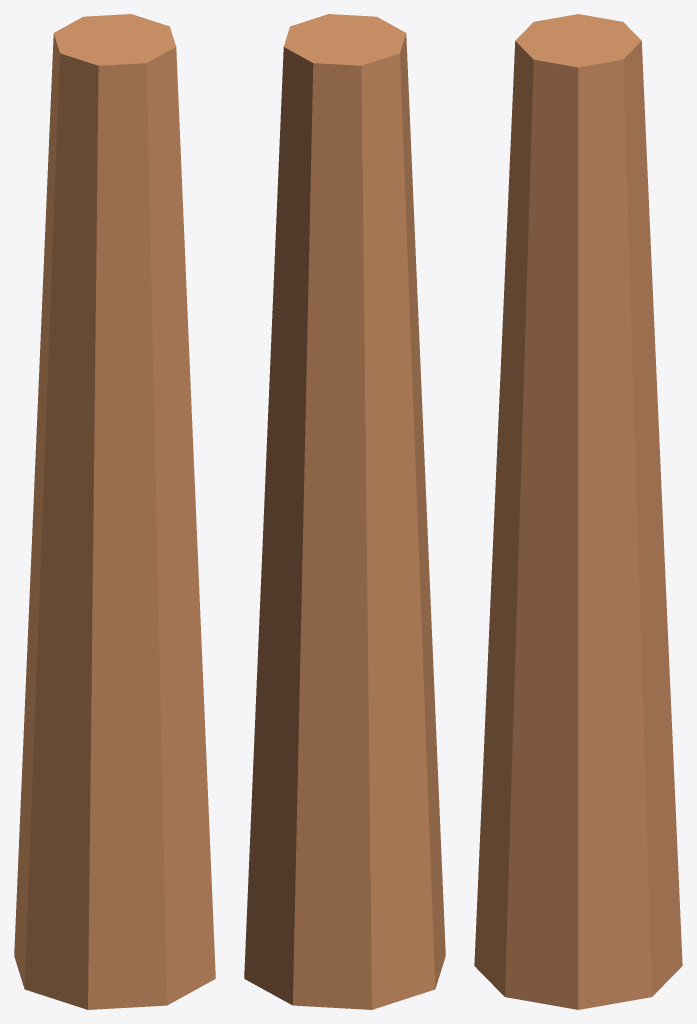
File: wk_soft_tissue_calf_v01.glb
3 views of the same model, side by side, from view 1: azimuth 30°, elevation 25°; view 2: azimuth 150°, elevation 25°; view 3: azimuth 270°, elevation 25° (orthographic).
Parts seen in each view (by area): view 1: GEO_SoftTissue_calf; view 2: GEO_SoftTissue_calf; view 3: GEO_SoftTissue_calf.
Boxes of the visible parts, box(x1,y1,x2,y2) form: GEO_SoftTissue_calf: box(14, 14, 215, 1009); GEO_SoftTissue_calf: box(244, 14, 445, 1009); GEO_SoftTissue_calf: box(474, 14, 682, 1009).
Bounding box in the file's own units: 0.204 × 1 × 0.204.
